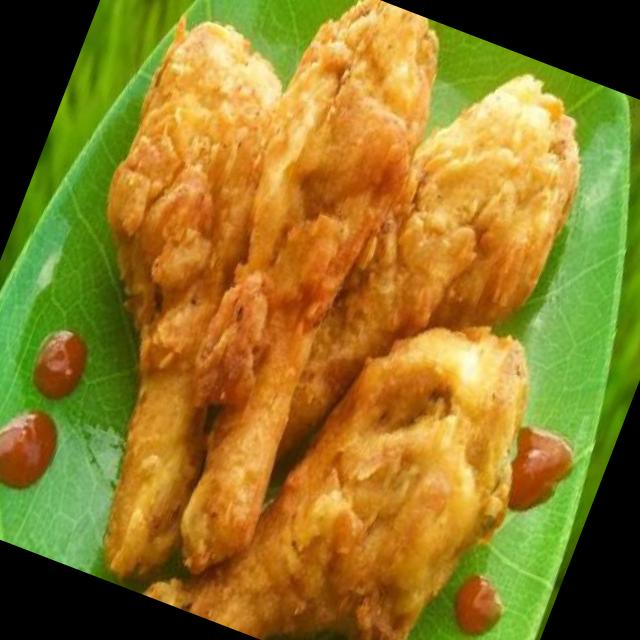Fried Chicken: (102, 0, 581, 640)
